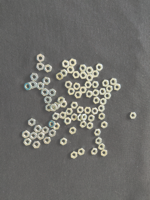nut: (30, 73, 39, 81), (36, 63, 45, 71), (37, 54, 45, 63), (43, 77, 51, 86), (41, 88, 49, 97), (48, 89, 57, 97), (56, 72, 64, 81), (24, 138, 32, 146), (22, 131, 30, 139), (28, 119, 36, 127), (29, 132, 37, 140), (33, 141, 41, 149), (37, 133, 45, 141), (34, 125, 42, 133), (43, 137, 51, 145), (52, 113, 60, 121), (24, 83, 32, 91), (44, 65, 52, 73), (44, 96, 52, 104), (60, 69, 68, 77), (62, 60, 70, 68), (67, 66, 75, 74), (69, 59, 77, 67), (65, 81, 73, 89), (73, 83, 81, 91), (72, 71, 80, 79), (86, 74, 94, 82), (110, 78, 118, 86), (37, 82, 44, 91), (71, 151, 78, 160), (30, 81, 37, 89), (46, 104, 53, 112), (50, 104, 57, 112), (53, 102, 60, 110), (57, 97, 65, 104), (60, 101, 68, 108), (60, 112, 67, 120), (60, 138, 67, 146), (78, 148, 85, 156), (64, 118, 72, 125), (65, 109, 73, 116), (71, 114, 78, 122), (70, 127, 77, 135), (68, 88, 75, 96), (80, 72, 88, 79), (79, 65, 87, 72), (86, 67, 94, 74), (92, 70, 99, 78), (96, 64, 103, 72), (85, 81, 92, 89), (84, 107, 92, 114), (91, 148, 98, 156), (94, 129, 102, 136), (88, 115, 95, 123), (91, 108, 99, 115), (99, 113, 106, 121), (98, 105, 105, 113), (93, 89, 100, 97), (92, 81, 99, 89), (100, 98, 107, 106), (100, 88, 107, 96), (102, 80, 110, 87), (104, 93, 112, 100), (42, 127, 49, 134), (49, 130, 56, 137), (49, 121, 56, 128), (53, 123, 60, 130), (71, 102, 78, 109), (75, 92, 82, 99), (80, 87, 87, 94), (77, 107, 84, 114), (80, 121, 87, 128), (81, 114, 88, 121), (101, 150, 108, 157), (101, 122, 108, 129), (86, 91, 93, 98), (93, 97, 100, 104), (106, 86, 113, 93), (114, 84, 121, 91), (130, 113, 137, 120), (77, 114, 83, 122), (96, 137, 102, 145), (87, 122, 93, 130), (99, 144, 105, 151)
